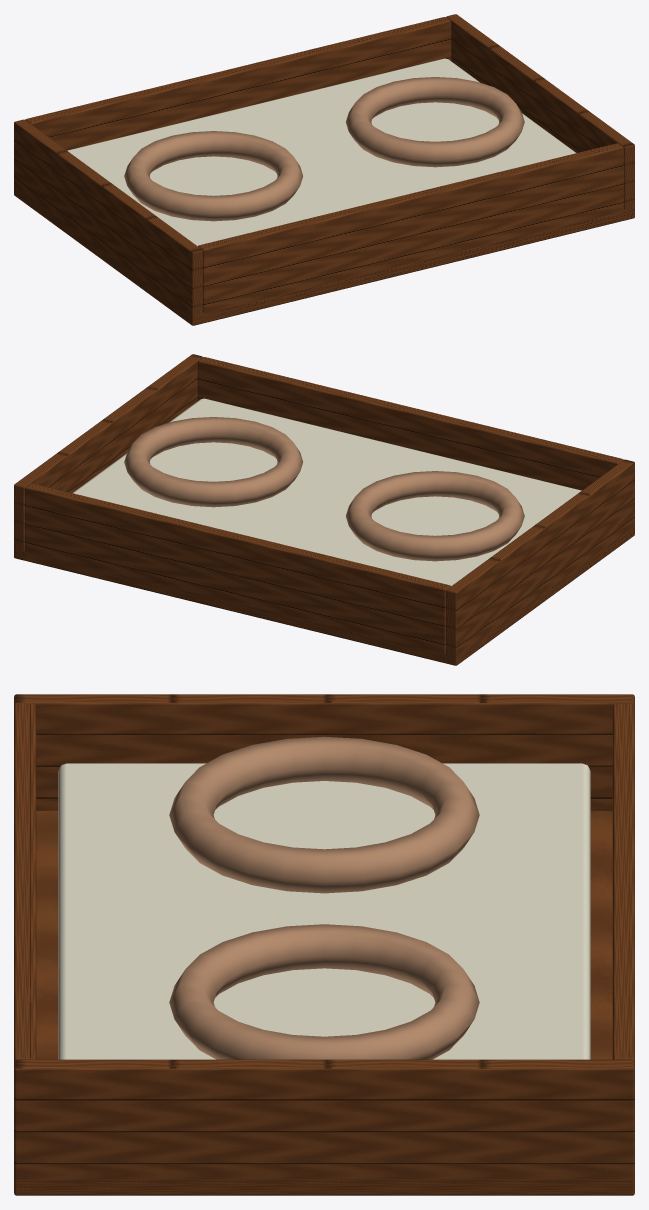
File: creature-husbandry-and-transport-incubation-sand-tray-e6cd29a6__24005.glb
The picture shows the model from 3 angles, top to bottom: view 1: azimuth 30°, elevation 25°; view 2: azimuth 150°, elevation 25°; view 3: azimuth 270°, elevation 25°; orthographic projection. The views are drawn at different scales.
Parts seen in each view (by area): view 1: incubation-sand-tray; view 2: incubation-sand-tray; view 3: incubation-sand-tray.
Boxes of the visible parts, bbox=[...] form: incubation-sand-tray: bbox=[14, 14, 634, 325]; incubation-sand-tray: bbox=[14, 354, 634, 665]; incubation-sand-tray: bbox=[14, 694, 634, 1195].
Size of the model in its own units: 1 by 0.16 by 0.7.
Materials: 3 (1 with a texture image).
